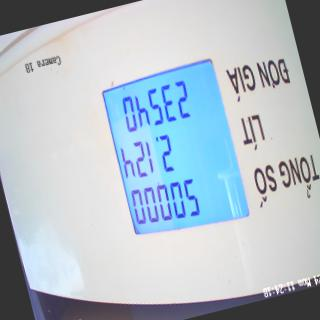screen: (96, 56, 256, 251)
